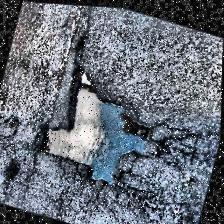pothole: (30, 56, 170, 196)
